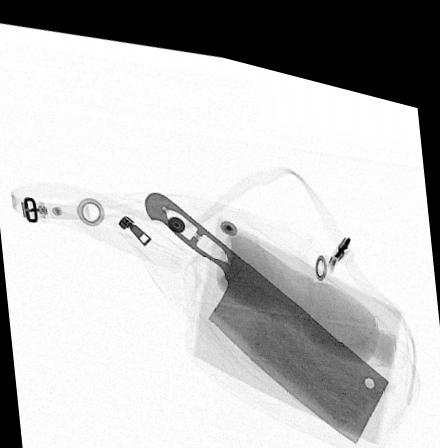Knife: (142, 180, 391, 425)
